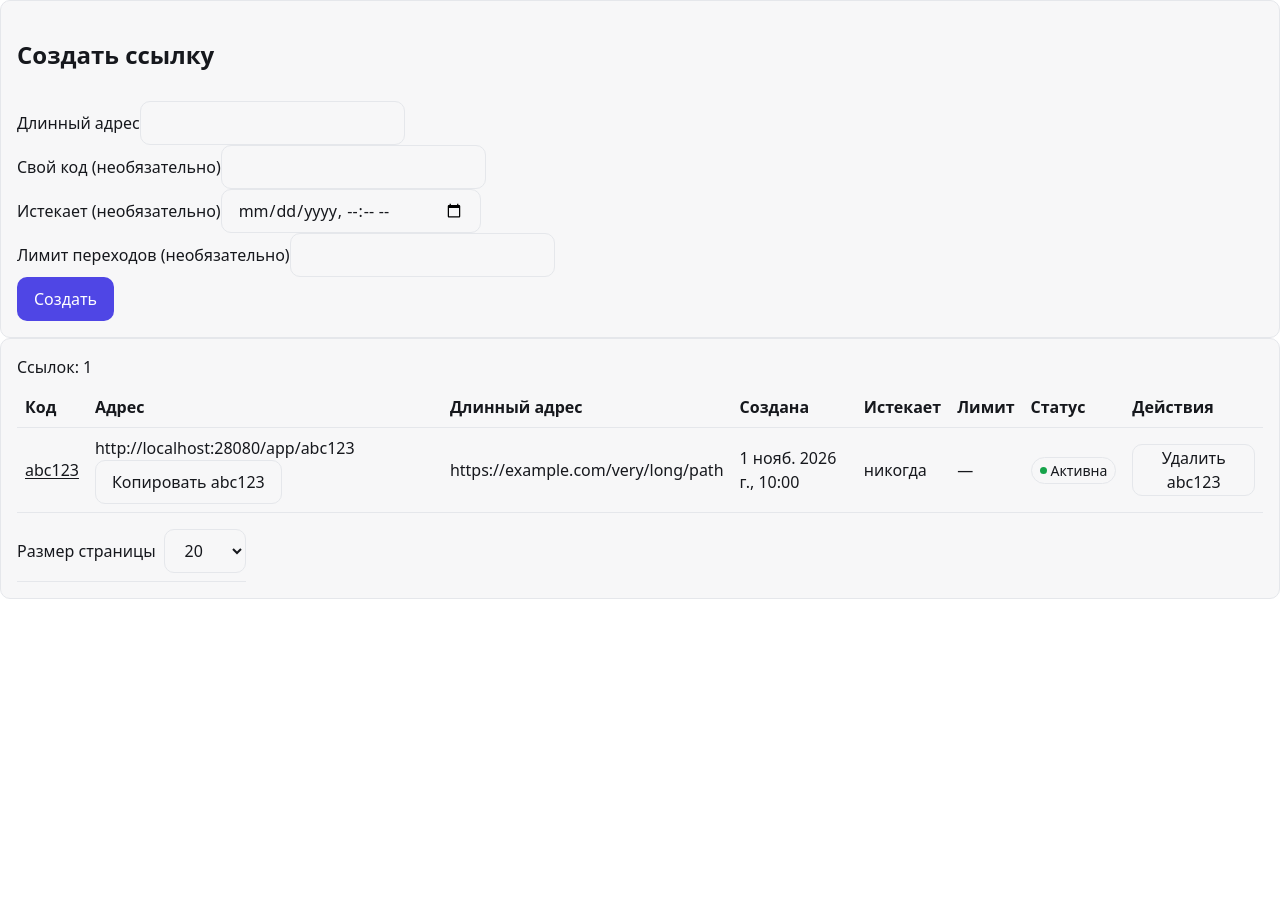
Test: LinksPage › Esc закрывает диалог и возвращает фокус кнопке строки
Click the button "Удалить abc123" at (1194,470), box [1132,444,1255,496]
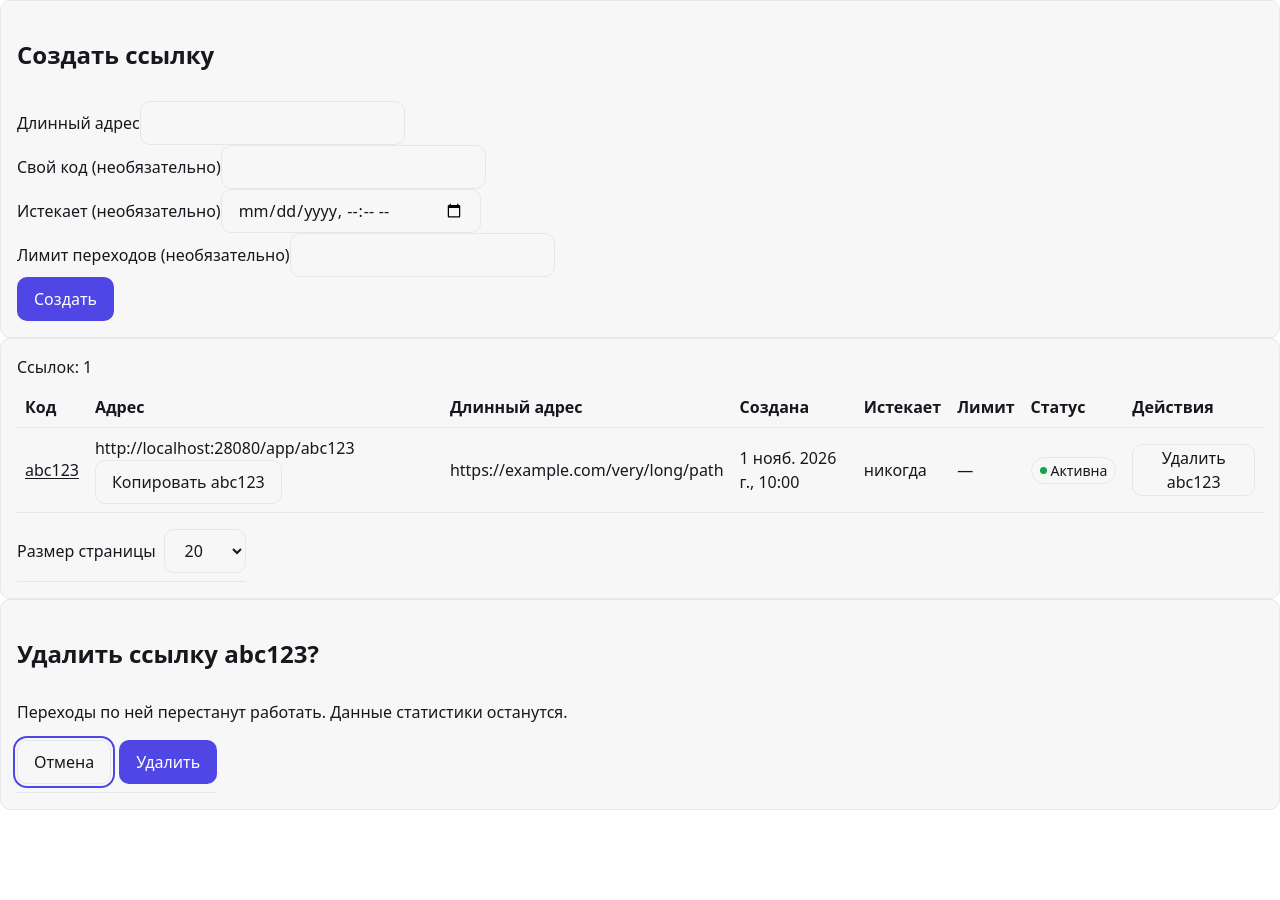
Expected: the dialog is shown, [0,599,1279,810]
Press Escape
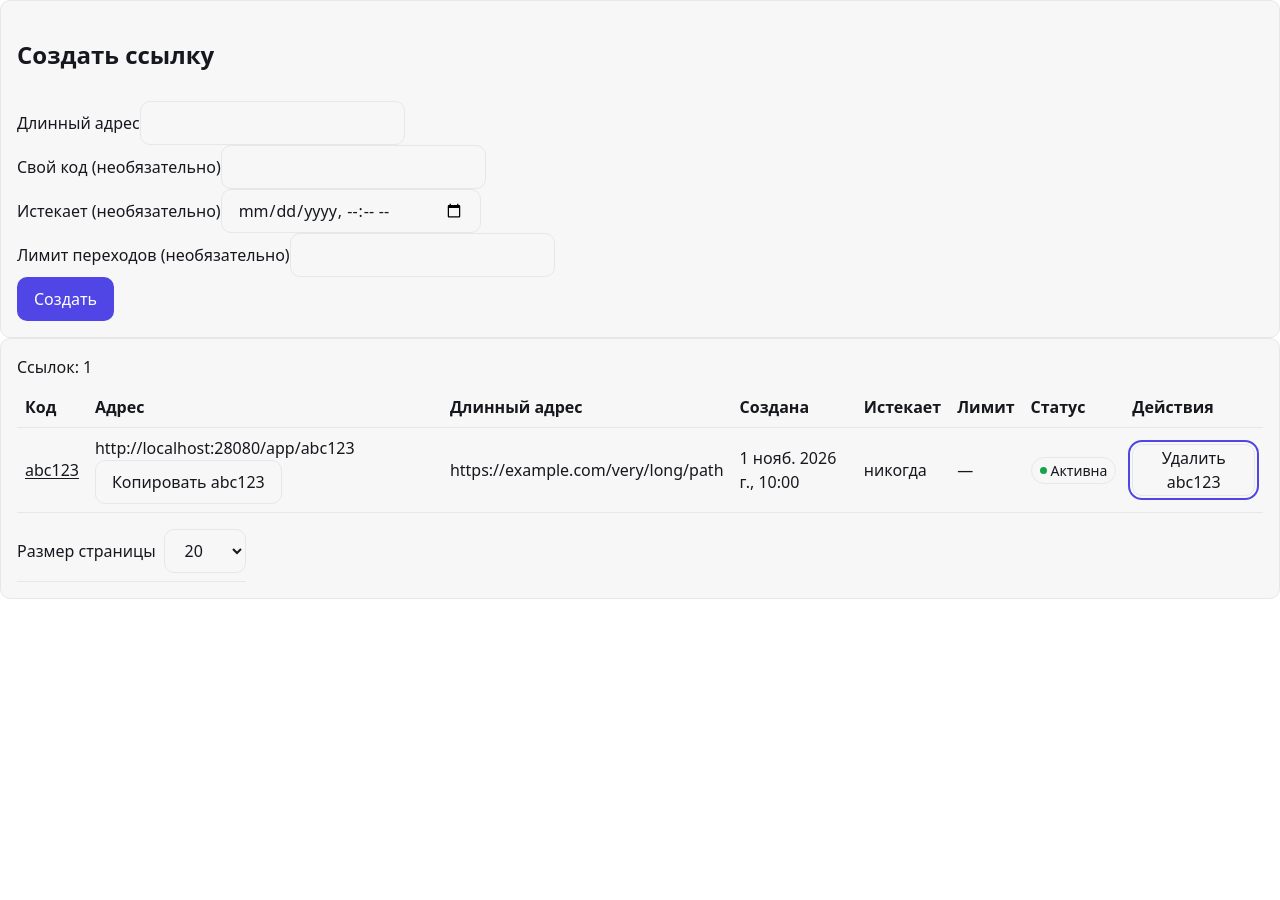
Expected: the dialog is gone
